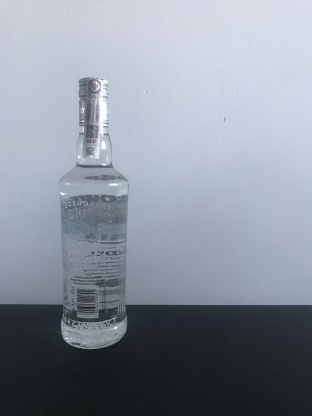nakretka: (75, 71, 111, 130)
